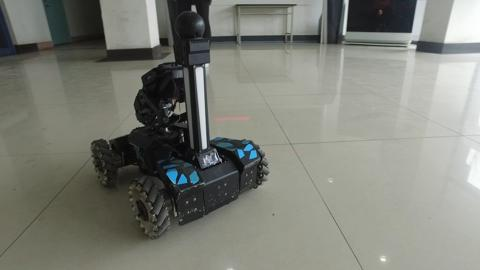chariot: (87, 11, 271, 239)
